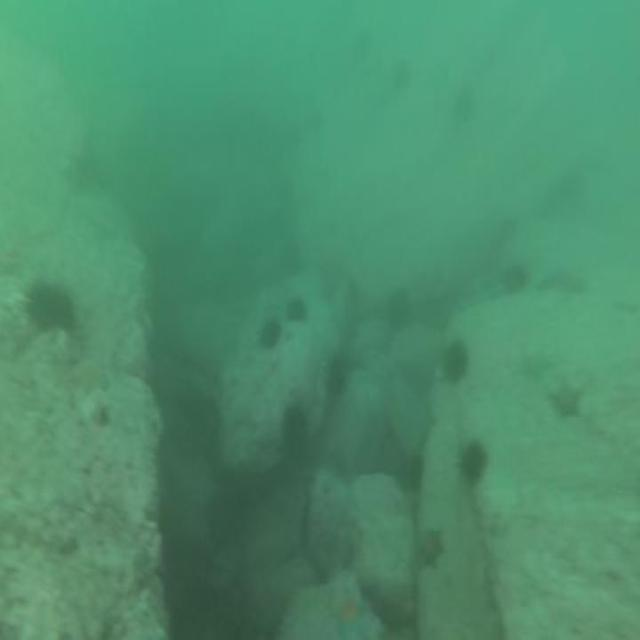echinus: (23, 275, 77, 338), (437, 335, 472, 392), (457, 433, 491, 488), (280, 400, 310, 453), (385, 283, 413, 336), (324, 349, 350, 397), (501, 259, 530, 300), (402, 446, 427, 493), (389, 54, 414, 95), (258, 315, 282, 357), (282, 290, 308, 328)
starfish: (546, 373, 589, 428), (329, 586, 371, 640), (416, 524, 444, 576)
